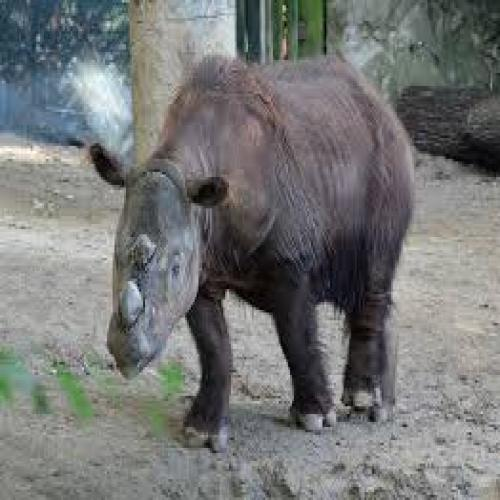rhino-endangered: (95, 52, 415, 450)
